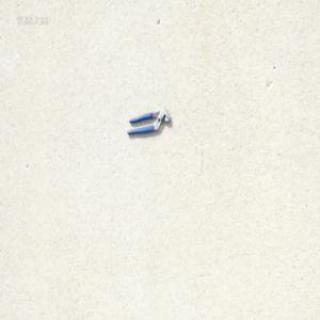Pliertrack_idkeyframe: (126, 106, 170, 135)
